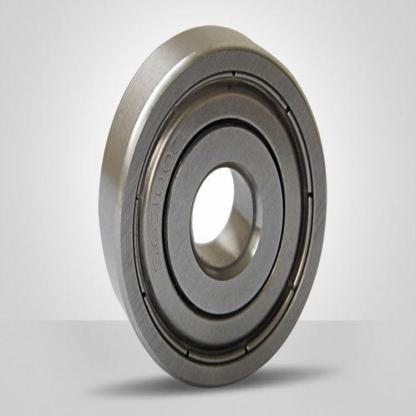FOD: (94, 20, 330, 392)
